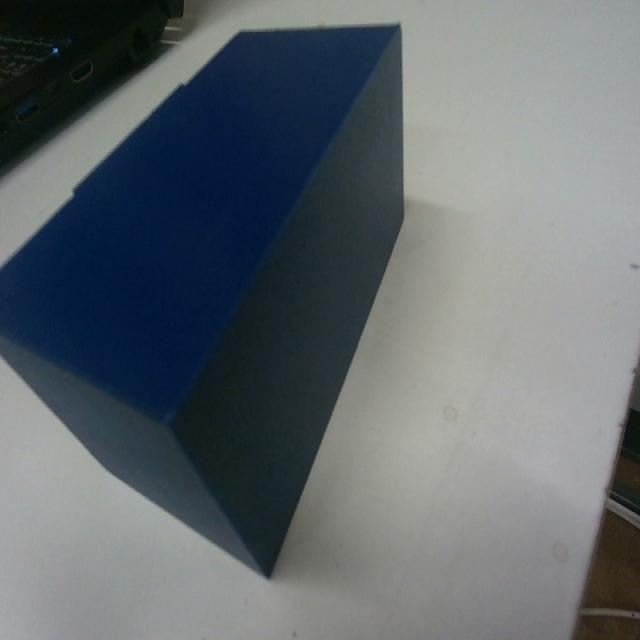Blue Cuboid: (0, 19, 407, 577)
